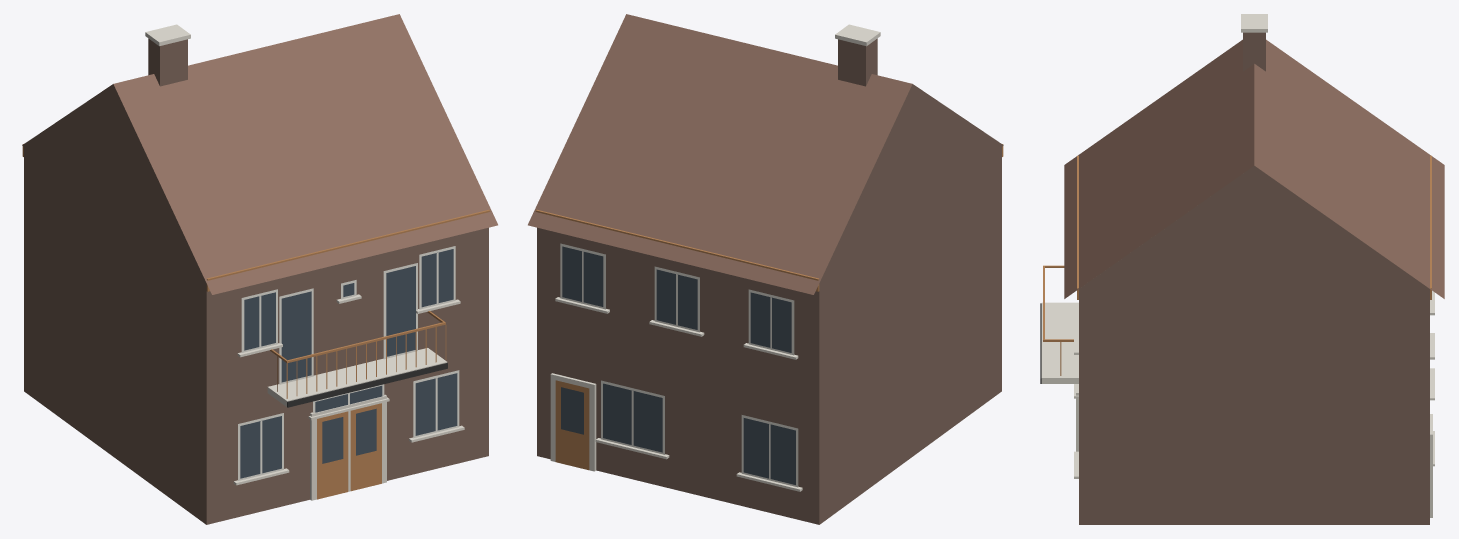
File: oo-ta-centre__orange__2__gable__long__solid.glb
The picture shows the model from 3 angles, left to right: view 1: azimuth 30°, elevation 25°; view 2: azimuth 150°, elevation 25°; view 3: azimuth 270°, elevation 25°; orthographic projection. The views are drawn at different scales.
Visible parts, largest first — view 1: oo-ta-centre__orange__2__gable__long__solid; view 2: oo-ta-centre__orange__2__gable__long__solid; view 3: oo-ta-centre__orange__2__gable__long__solid.
Part boxes in pixels (x1,y1,x2,y2): oo-ta-centre__orange__2__gable__long__solid: [22, 14, 497, 524]; oo-ta-centre__orange__2__gable__long__solid: [528, 14, 1003, 524]; oo-ta-centre__orange__2__gable__long__solid: [1040, 14, 1444, 524].
Size of the model in its own units: 7.68 by 10.55 by 9.76.
